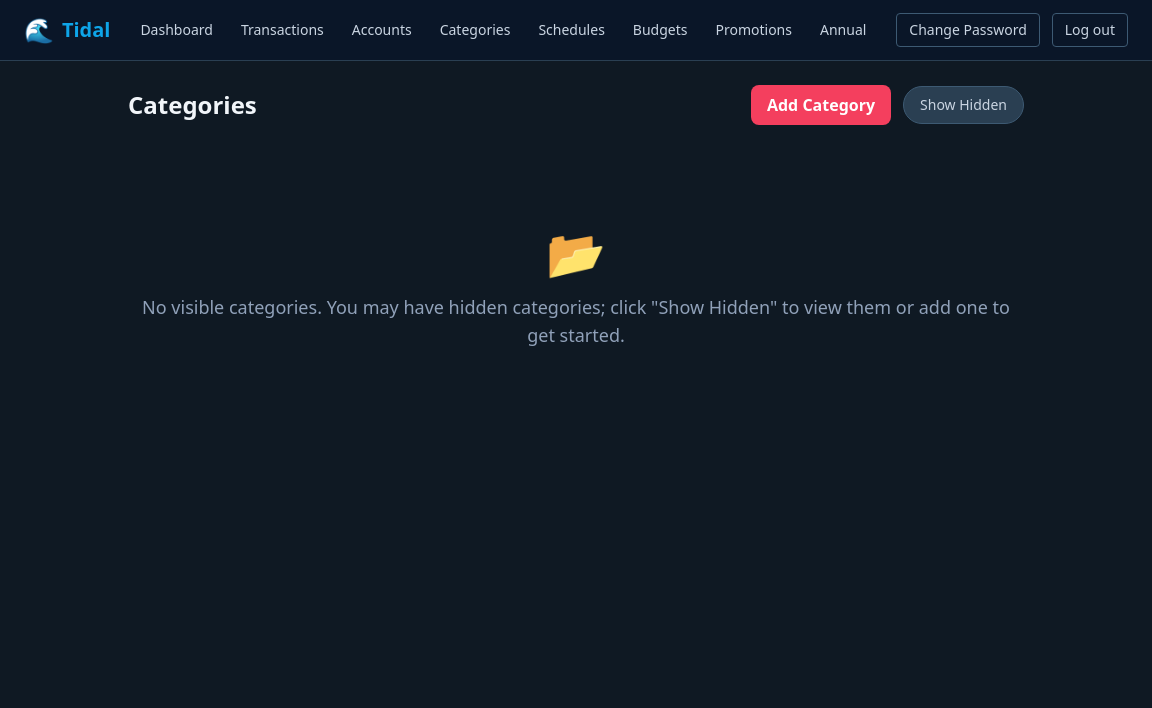
Test case: CategoriesPage › hides the AddCategoryForm when Add Category is clicked a second time
Click the button "Add Category" at coordinates (821, 105), box [751,85,891,125]
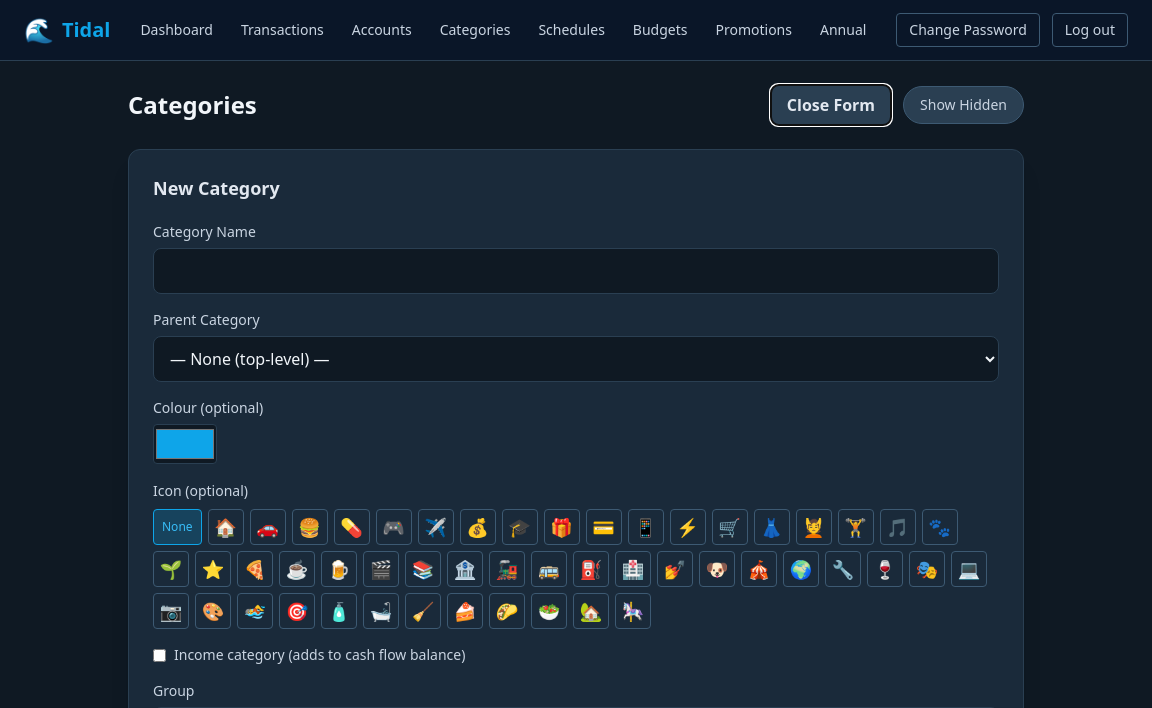
Click the button named "add category" at coordinates (831, 105), box [771,85,891,125]
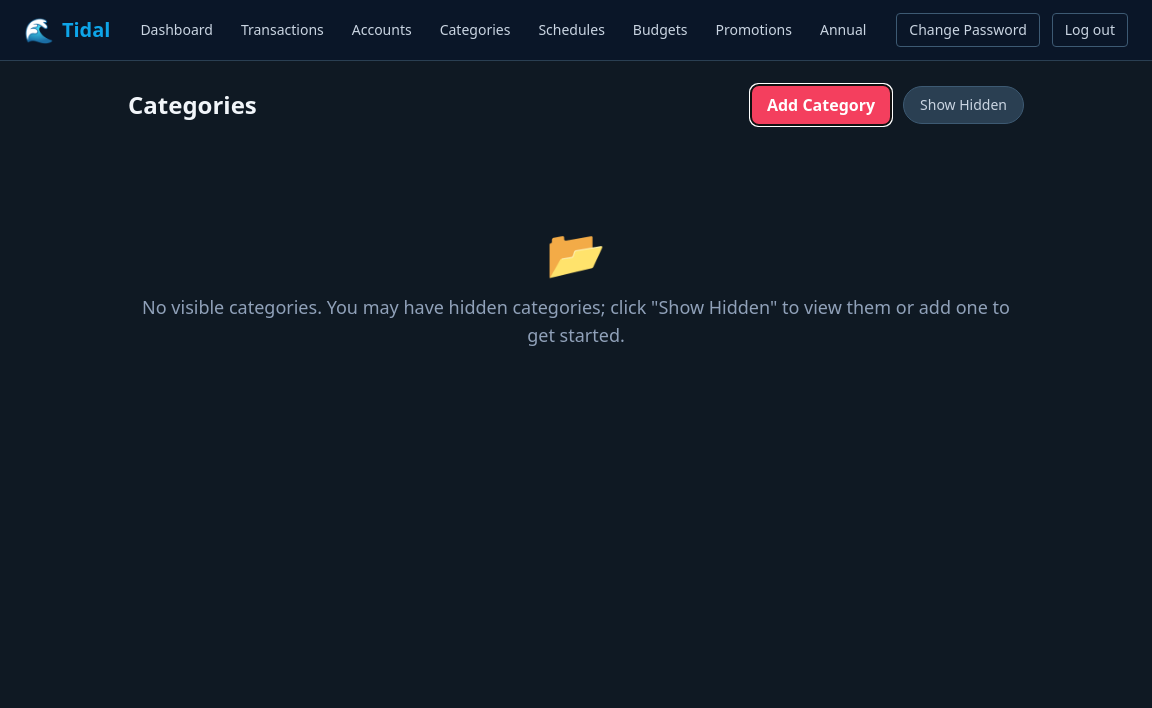
Check: the label labelled "Category Name" is gone
